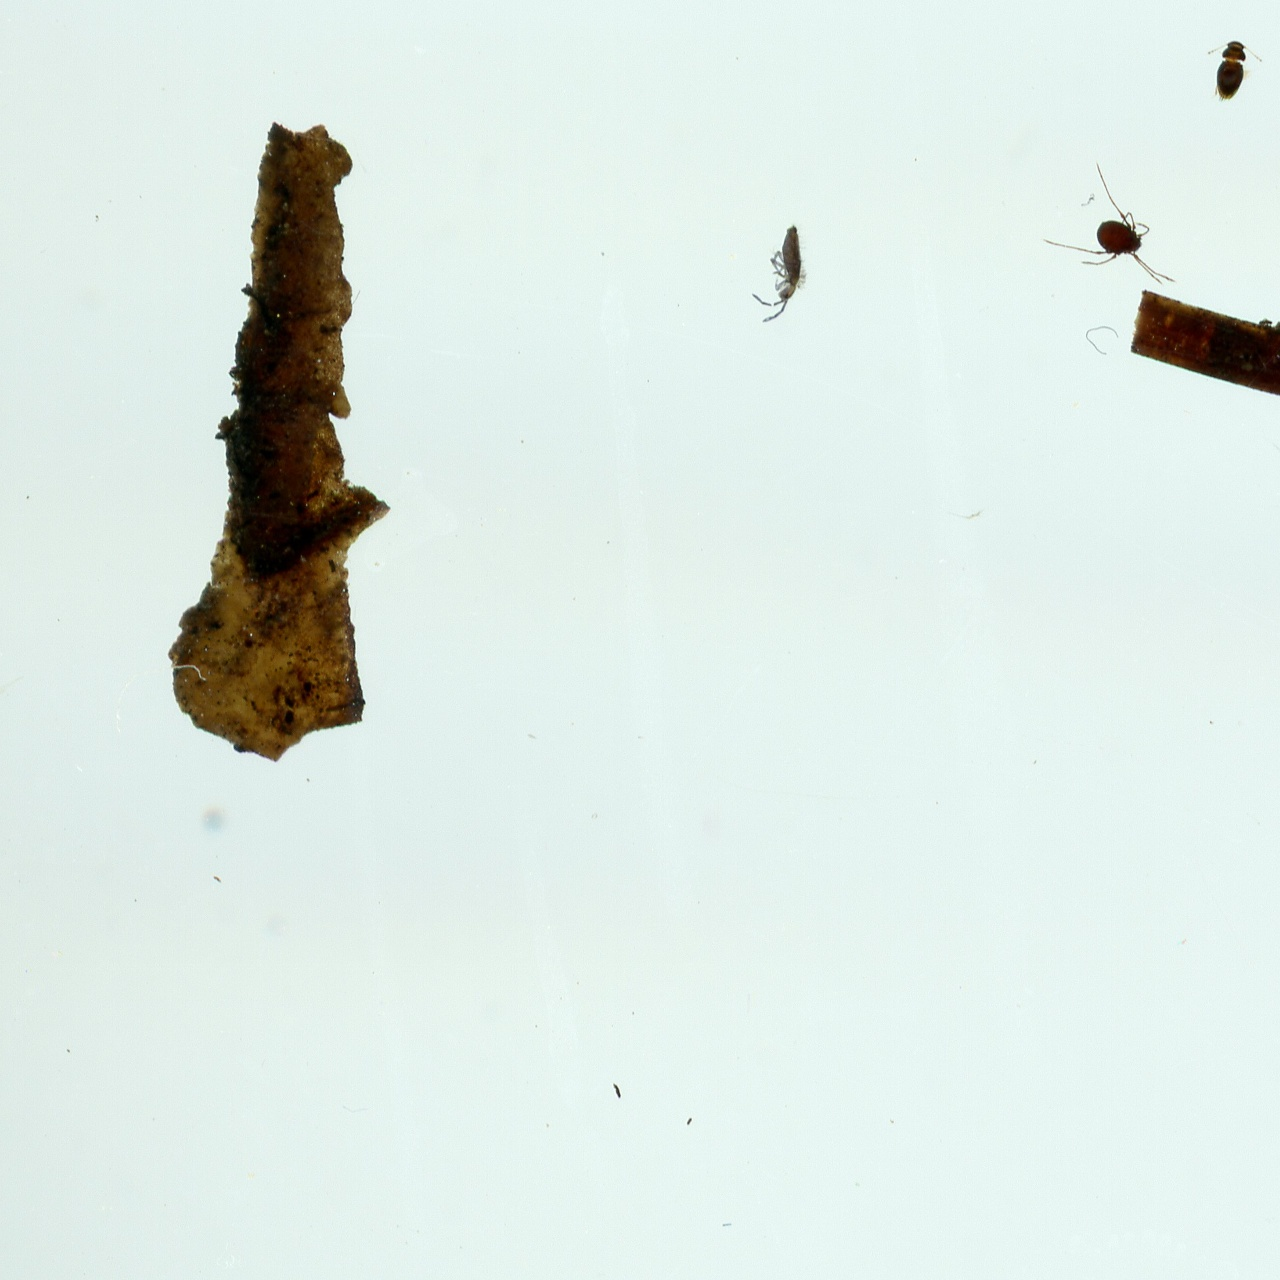arthropod: (1033, 153, 1184, 290), (748, 218, 814, 334), (1199, 29, 1270, 108)
